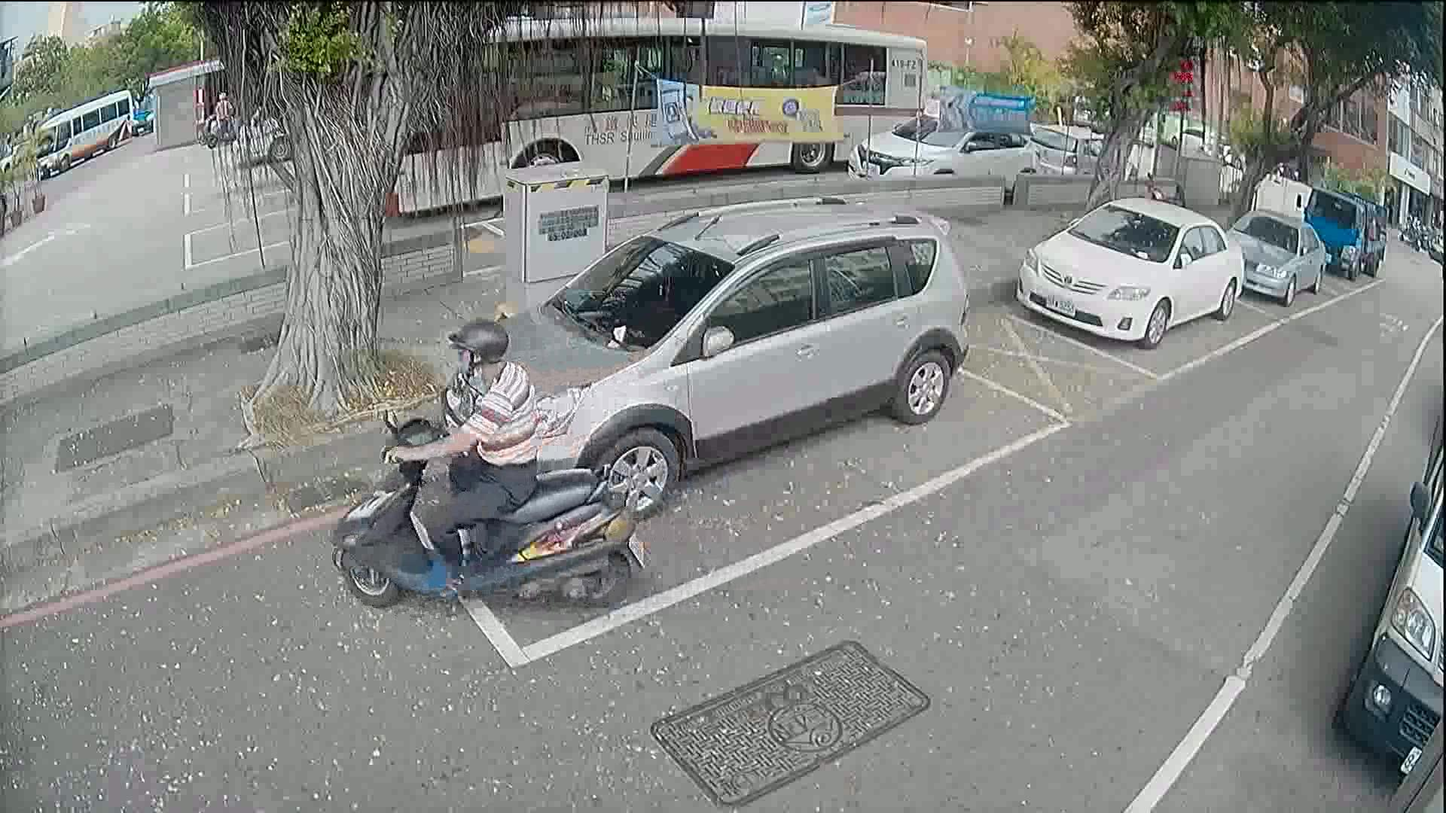person: (378, 307, 541, 592), (208, 85, 232, 143)
